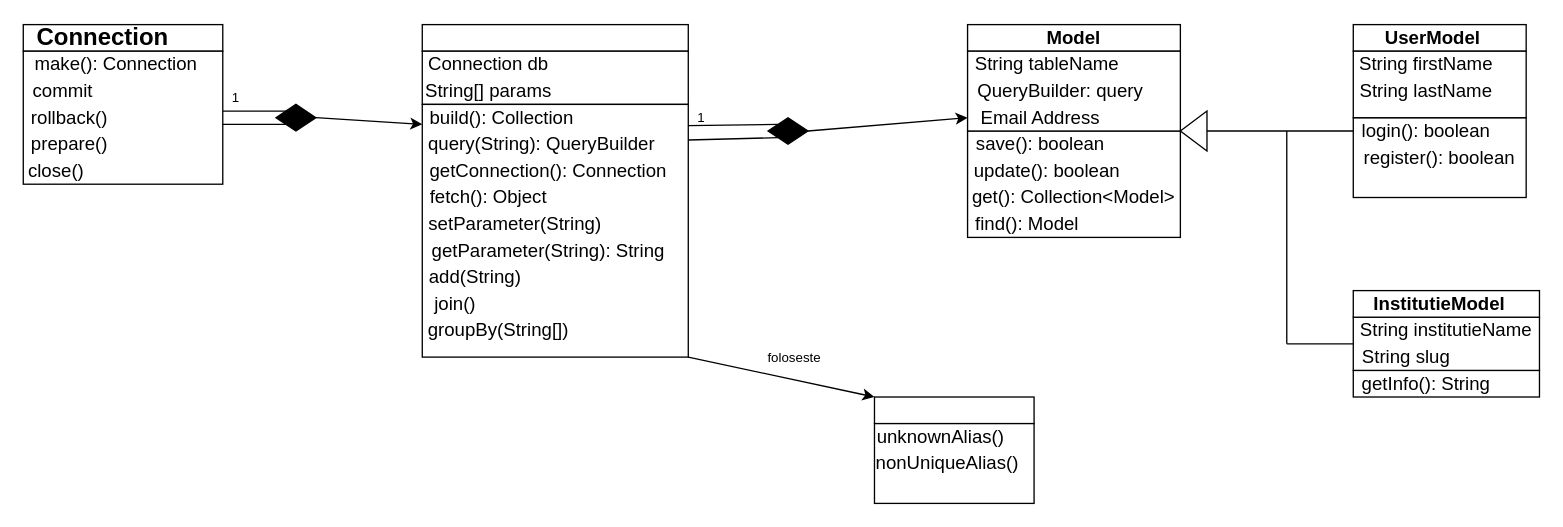
Some shapes in this 1563 by 527 pixel diagram are drawn without their labels. The centre of each missing label's shape, as x and y in pixels:
"QueryBuilder" belongs at pixel 554 37.
"QueryException" belongs at pixel 953 410.
